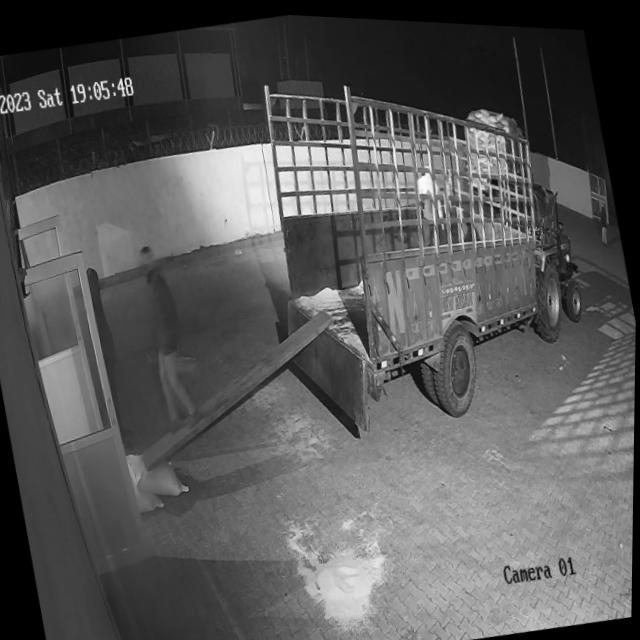sack: (127, 442, 190, 503)
